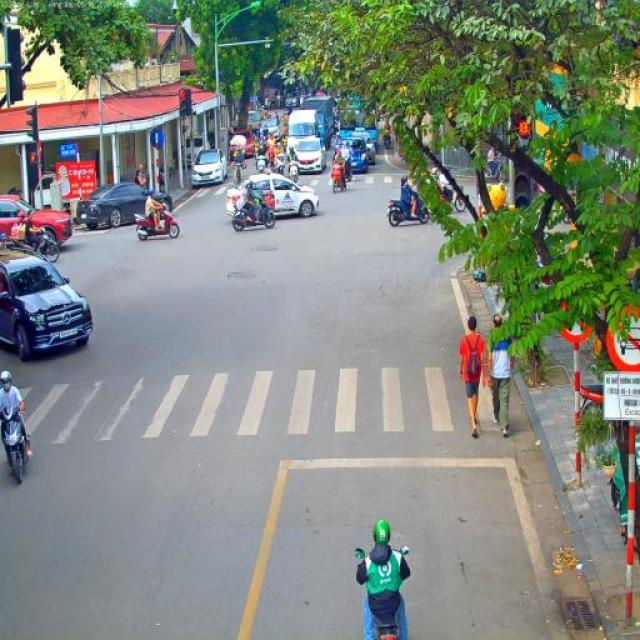bus: (337, 96, 378, 148)
car: (0, 248, 95, 362), (76, 181, 173, 230), (226, 171, 320, 219), (0, 196, 74, 247), (191, 148, 228, 188), (339, 127, 376, 165), (294, 134, 326, 174), (340, 136, 369, 174), (230, 130, 256, 165), (260, 118, 280, 144)
motorcycle: (352, 544, 408, 640), (0, 404, 30, 485), (8, 228, 61, 263), (134, 204, 181, 242), (232, 200, 277, 232), (387, 195, 431, 227), (438, 182, 468, 212), (579, 380, 609, 410), (329, 161, 347, 194), (486, 154, 506, 182), (232, 156, 247, 186), (340, 158, 354, 182), (254, 154, 270, 174), (267, 146, 278, 173), (288, 159, 300, 183), (273, 156, 286, 175), (332, 142, 344, 162), (253, 140, 265, 160), (383, 131, 392, 150)
truck: (286, 108, 325, 163), (298, 96, 336, 146), (246, 110, 262, 141)
